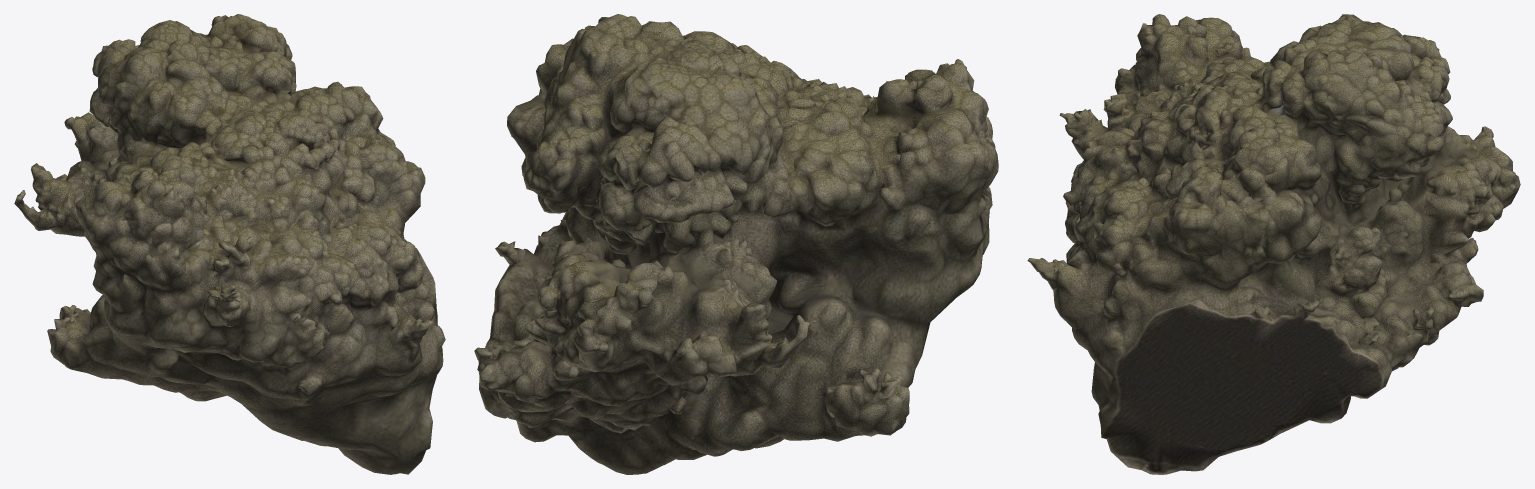
Rendered from cloud_runner_port_cumulusTowerB.87ff0b39.glb.
The picture shows the model from 3 angles, left to right: view 1: azimuth 30°, elevation 25°; view 2: azimuth 150°, elevation 25°; view 3: azimuth 270°, elevation 25°; orthographic projection. The views are drawn at different scales.
Bounding box in the file's own units: 1.48 × 1.7 × 1.9.
1 material, 1 textured.
